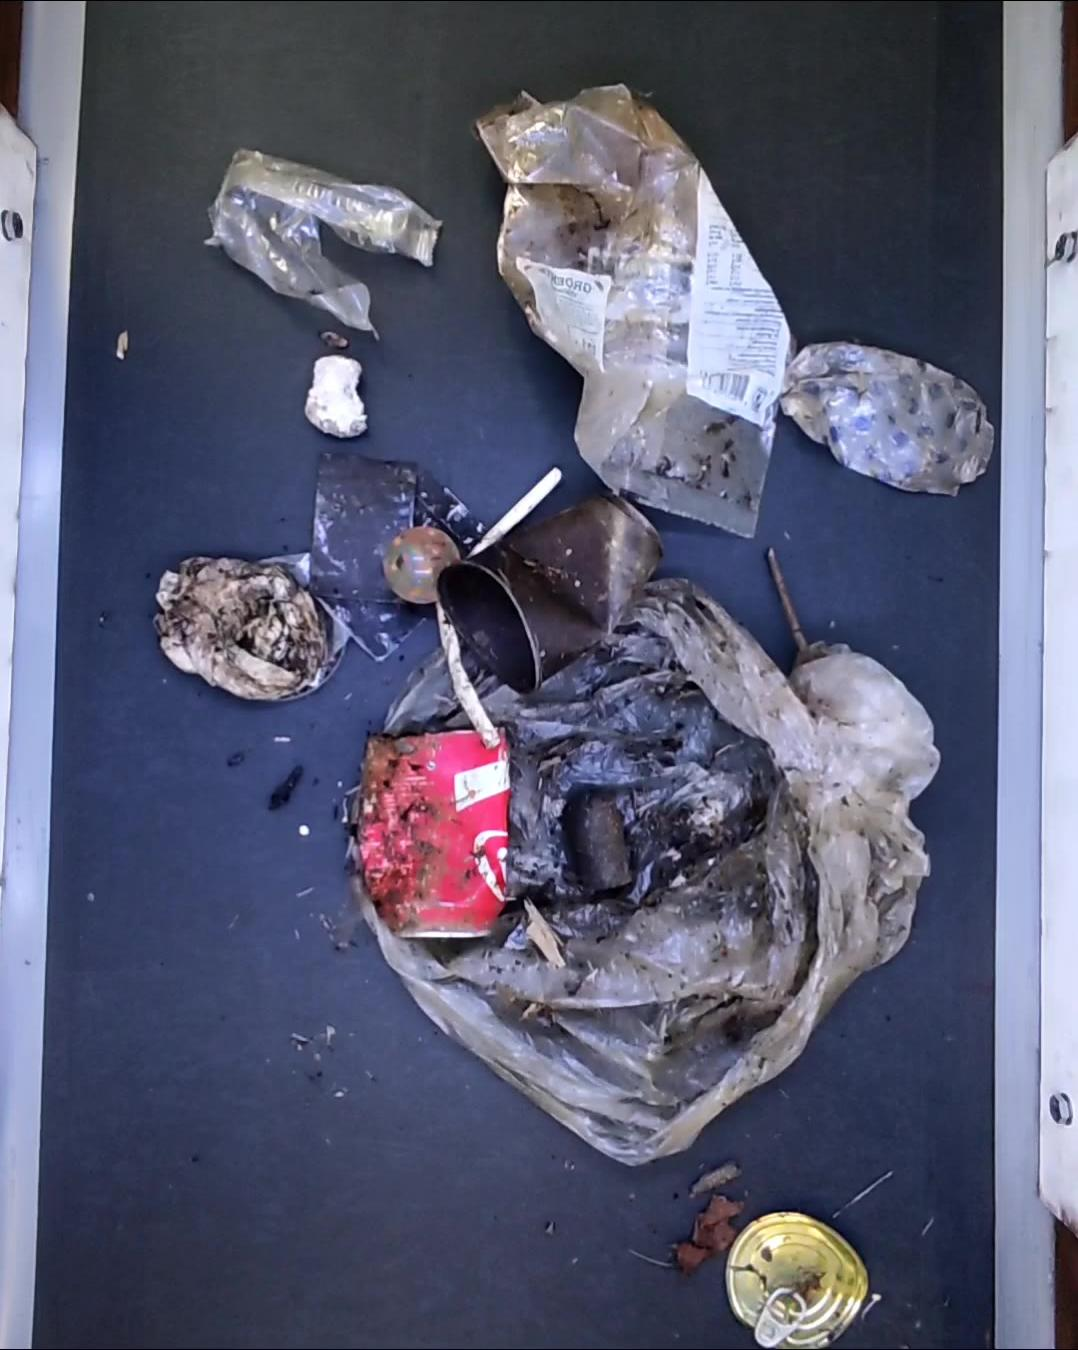Drankblikjes: (359, 722, 507, 942)
Plastic folies of stukken daarvan 2.5- 50 cm: (475, 84, 785, 537), (210, 145, 442, 336)
